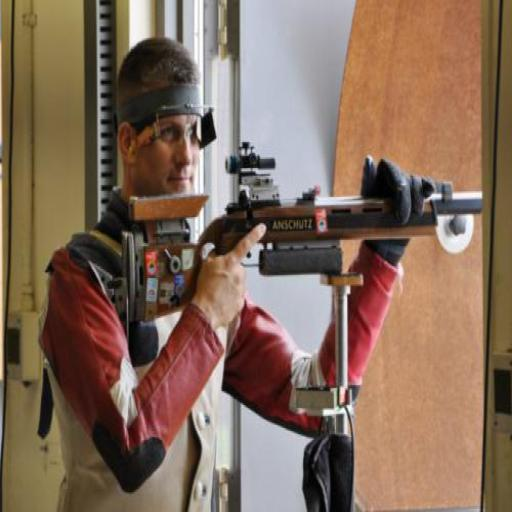shooting: (37, 35, 437, 511)
